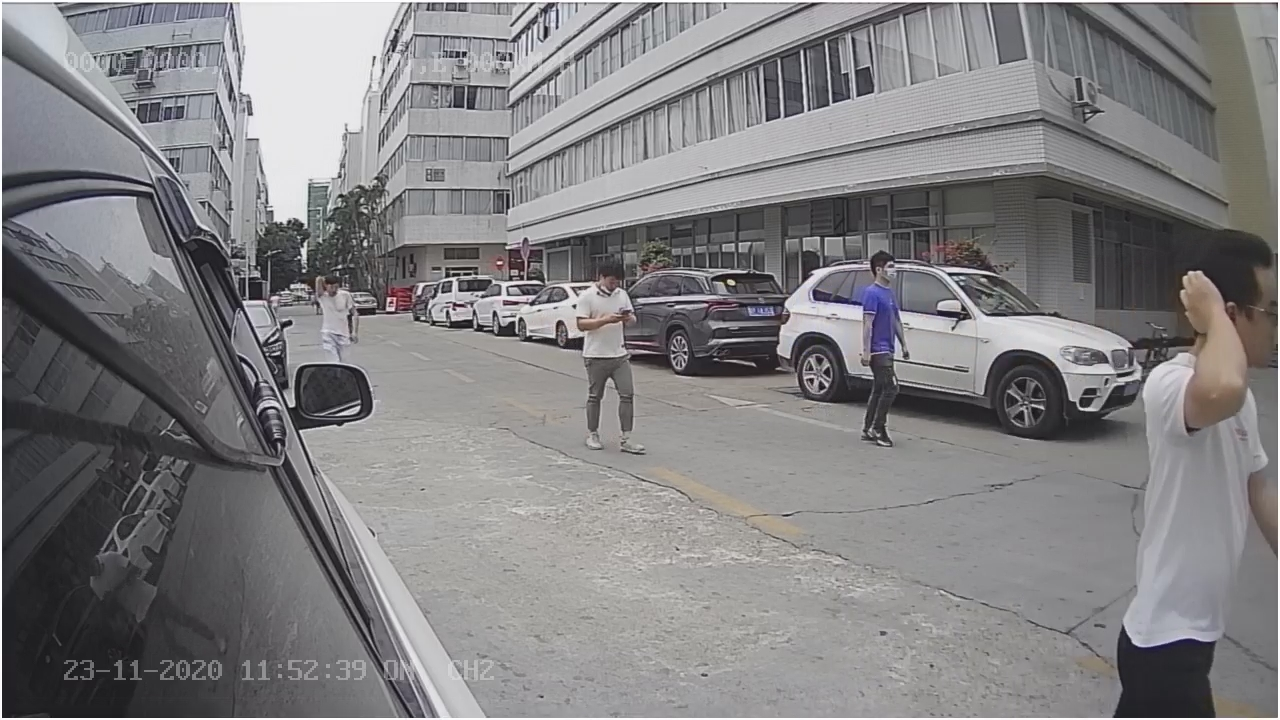person: (577, 262, 645, 457), (854, 253, 907, 440)
